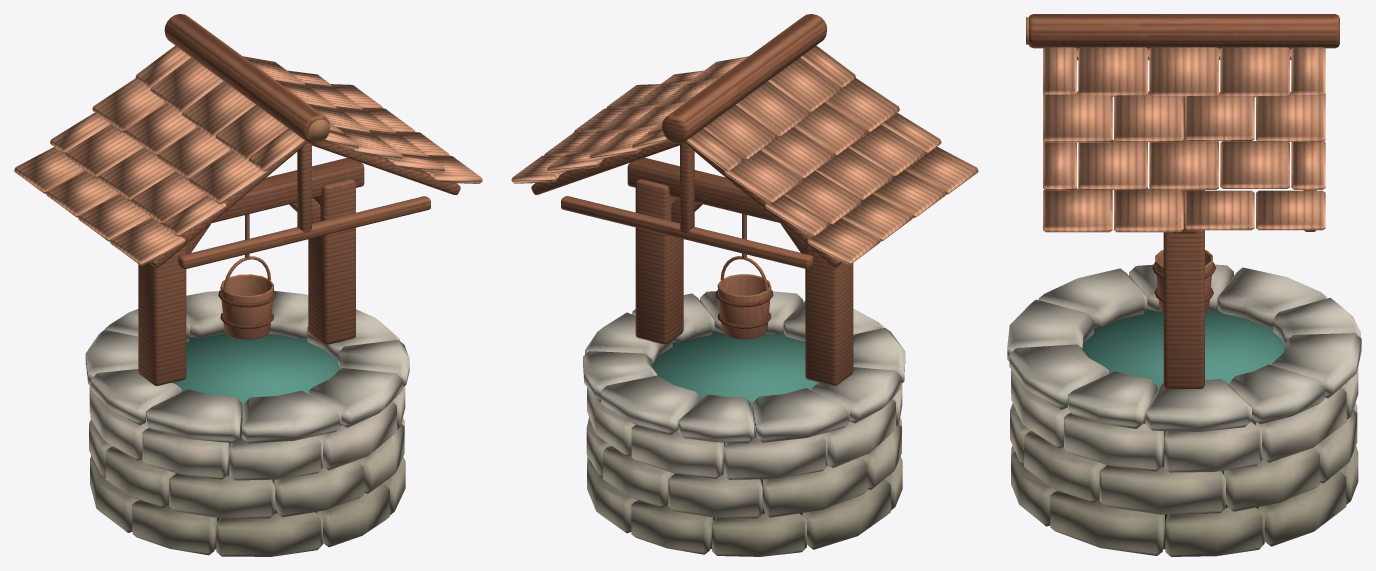
Rendered from well_2_high.glb.
The picture shows the model from 3 angles, left to right: view 1: azimuth 30°, elevation 25°; view 2: azimuth 150°, elevation 25°; view 3: azimuth 270°, elevation 25°; orthographic projection. The views are drawn at different scales.
Parts seen in each view (by area): view 1: well_2; view 2: well_2; view 3: well_2.
Boxes of the visible parts, x1,y1,x2,y2 form: well_2: (14,14,482,556); well_2: (511,14,978,556); well_2: (1007,14,1361,556).
Bounding box in the file's own units: 1.9 × 2.27 × 1.55.
Materials: 1 (1 with a texture image).
